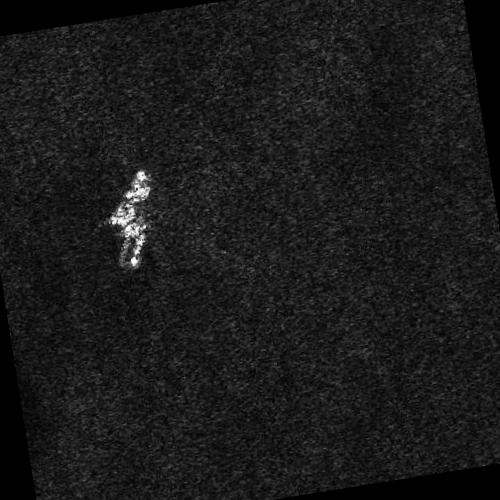ship: (108, 170, 150, 226), (120, 225, 147, 273)
